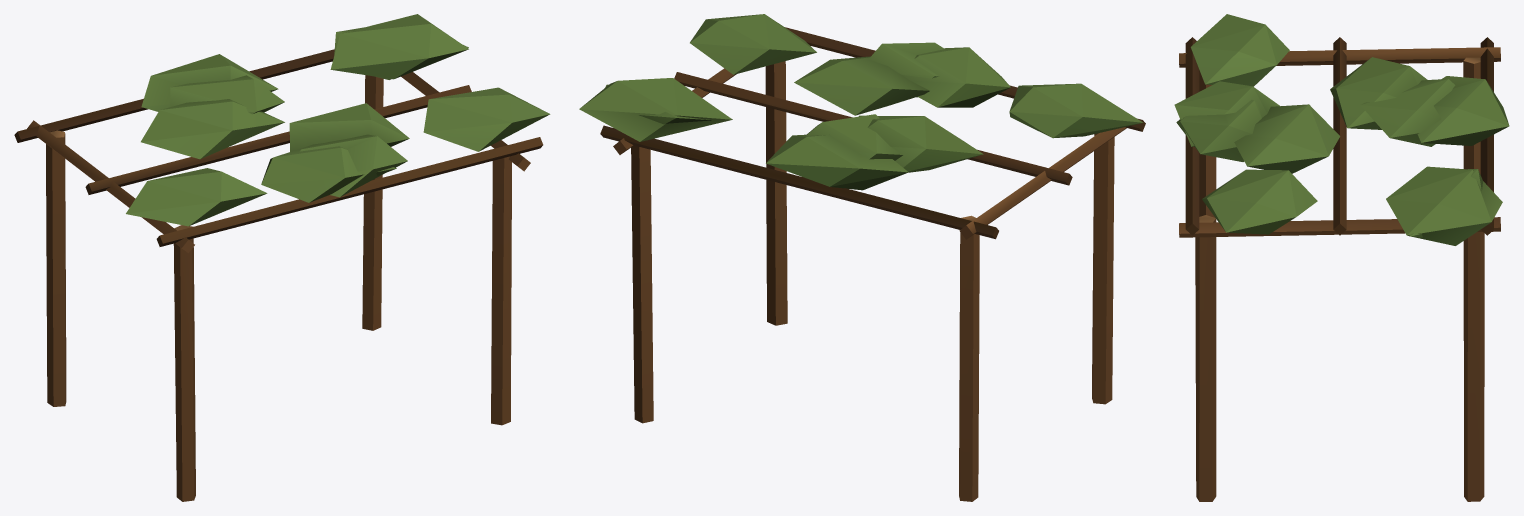
Rendered from booth.glb.
3 views of the same model, side by side, from view 1: azimuth 30°, elevation 25°; view 2: azimuth 150°, elevation 25°; view 3: azimuth 270°, elevation 25° (orthographic). The views are drawn at different scales.
Visible parts, largest first — view 1: base; view 2: base; view 3: base.
Boxes of the visible parts, x1,y1,x2,y2 form: base: (14, 14, 550, 501); base: (579, 14, 1145, 501); base: (1174, 14, 1509, 501).
Size of the model in its own units: 0.7723 by 0.5208 by 0.5002.
